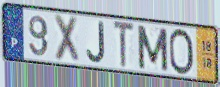9: (27, 14, 49, 57)
J: (86, 20, 106, 65)
M: (135, 23, 170, 73)
O: (168, 27, 196, 77)
T: (112, 19, 136, 70)
X: (53, 13, 81, 66)
